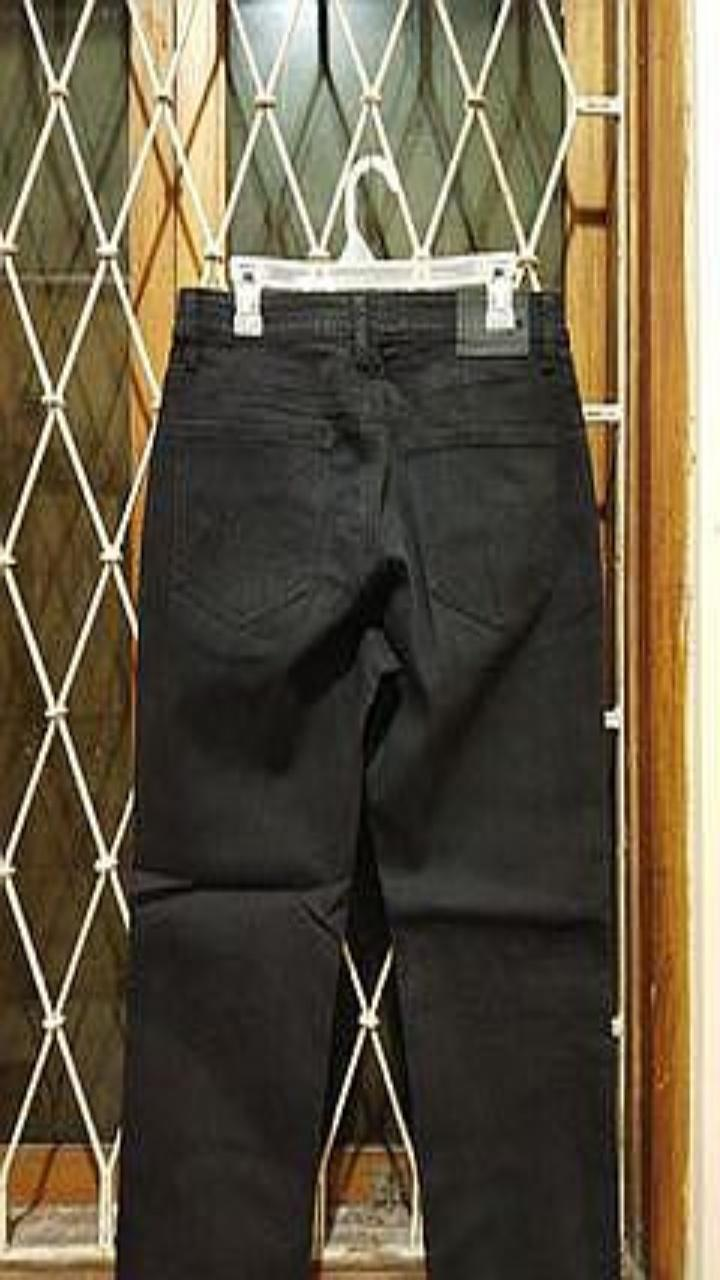Jeans: (116, 288, 619, 1279)
